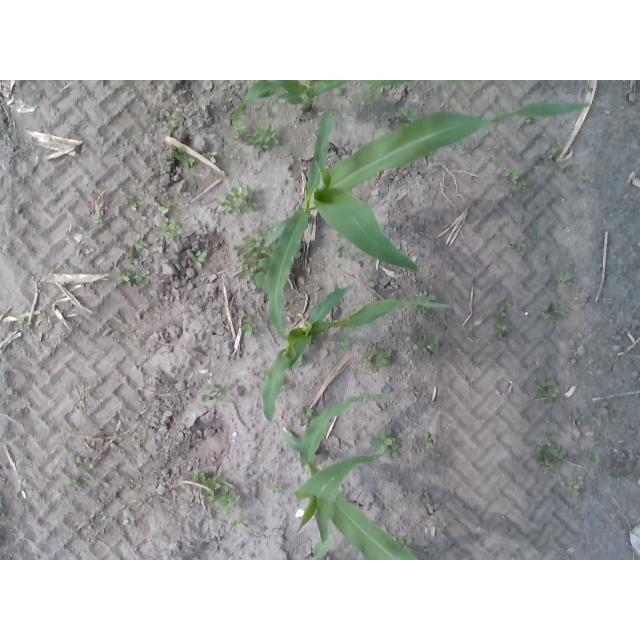Maize: (263, 101, 594, 342), (262, 284, 450, 424), (282, 393, 419, 560), (234, 80, 475, 121), (305, 536, 332, 560)
Weeds: (218, 186, 259, 214), (537, 440, 566, 464), (367, 348, 394, 373), (216, 487, 240, 513), (235, 235, 262, 257), (254, 126, 278, 147), (371, 431, 397, 450), (169, 148, 195, 167), (192, 472, 221, 488), (364, 92, 387, 109), (242, 252, 261, 270), (203, 383, 221, 402), (135, 264, 150, 285), (66, 479, 91, 490), (537, 376, 556, 390), (230, 518, 250, 531), (509, 240, 528, 253), (129, 236, 148, 249), (503, 168, 518, 184), (114, 269, 132, 282), (396, 109, 419, 119), (127, 194, 146, 206), (239, 267, 253, 282), (167, 221, 182, 235), (423, 432, 436, 448), (384, 446, 400, 459), (297, 408, 314, 420), (197, 251, 208, 269), (161, 122, 176, 135), (493, 324, 509, 336), (204, 149, 220, 161), (337, 247, 351, 260), (568, 481, 581, 495), (418, 291, 435, 301), (556, 273, 573, 283), (242, 323, 254, 337), (123, 511, 134, 526), (69, 457, 83, 468), (247, 132, 258, 145), (270, 483, 283, 494), (545, 389, 559, 399), (553, 305, 567, 315), (85, 458, 96, 470), (531, 225, 539, 240), (340, 339, 352, 349), (540, 309, 552, 319), (207, 491, 218, 501), (549, 147, 558, 159), (497, 306, 506, 318), (92, 216, 103, 225), (235, 122, 246, 131), (578, 177, 591, 184), (595, 454, 602, 467), (19, 319, 32, 326), (159, 206, 169, 215), (103, 328, 114, 336), (432, 336, 440, 346), (517, 180, 527, 188), (514, 216, 523, 222), (561, 163, 569, 169)
